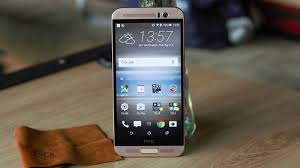htc: (109, 4, 186, 160)
